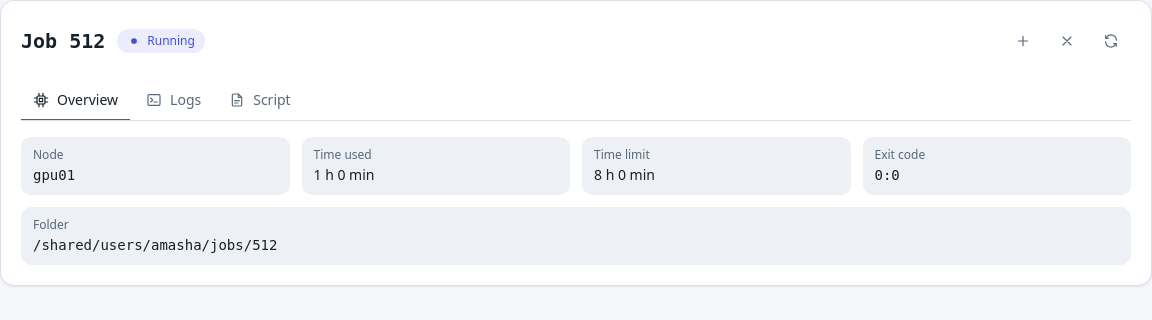
Test: JobDetail › shows the log and the script on their own tabs
The width and height of the screenshot is (1152, 320).
Click the tab "Logs" at (174, 101), box [134, 81, 213, 121]
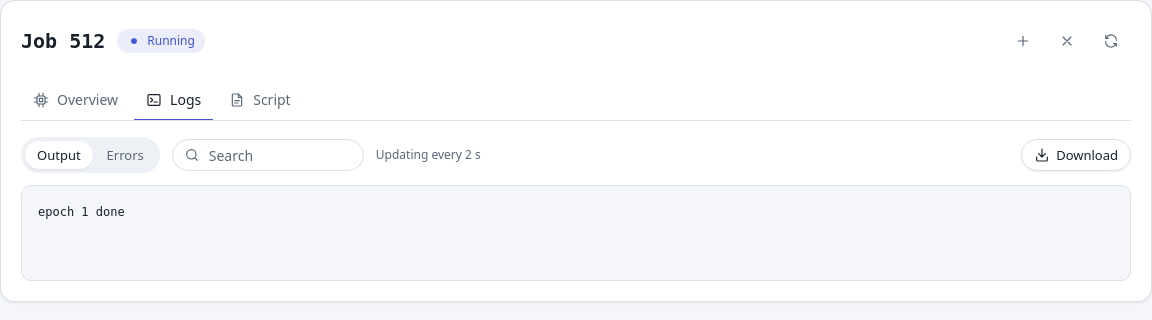
expect the text "epoch 1 done" is shown: met, box [21, 185, 1131, 281]
expect the element named "Log stream" is shown: met, box [21, 137, 160, 173]
Click the tab "Script" at (260, 101), box [217, 81, 303, 121]
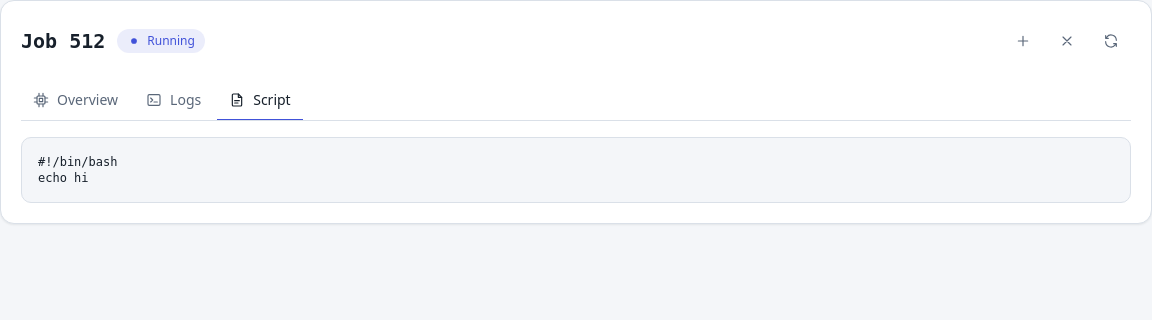
expect the text "#!/bin/bash echo hi" is shown: met, box [21, 137, 1131, 203]
